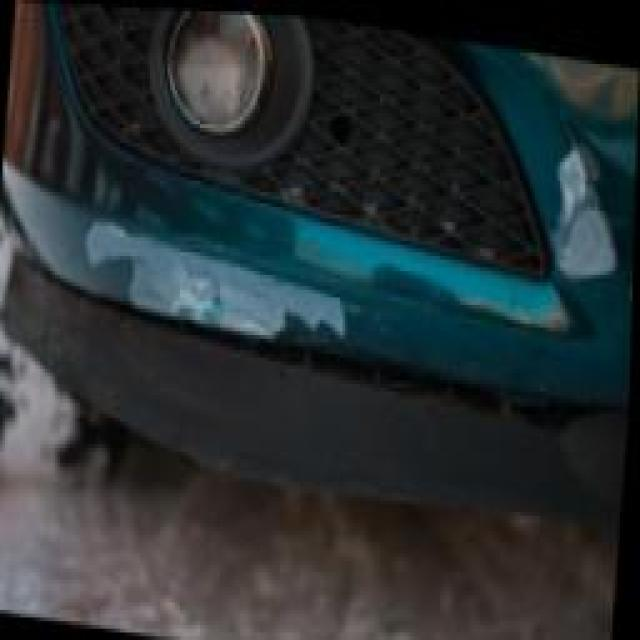Bumper: (70, 4, 630, 427)
